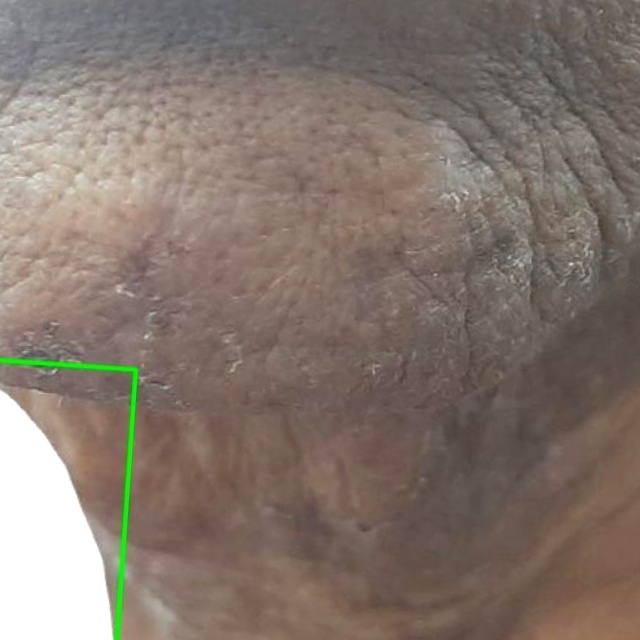Eczema: (0, 360, 135, 639)
